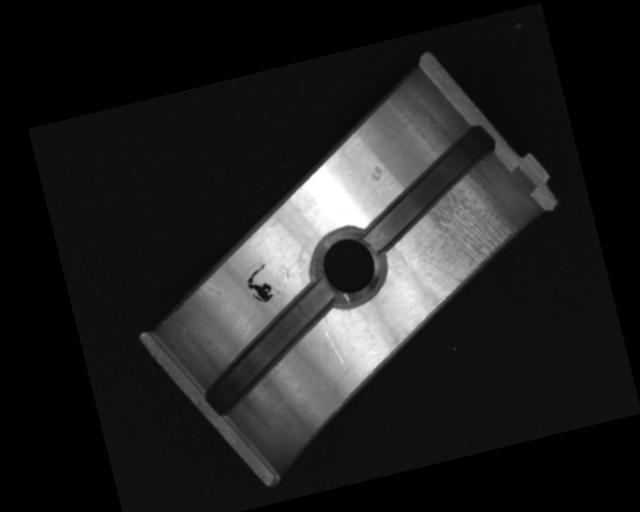blot: (241, 261, 277, 308)
bruise: (366, 161, 387, 183)
gap: (181, 281, 353, 419), (348, 123, 511, 251)
hole: (302, 221, 392, 313)
nick: (325, 328, 346, 371)
scratch: (397, 172, 526, 298)
